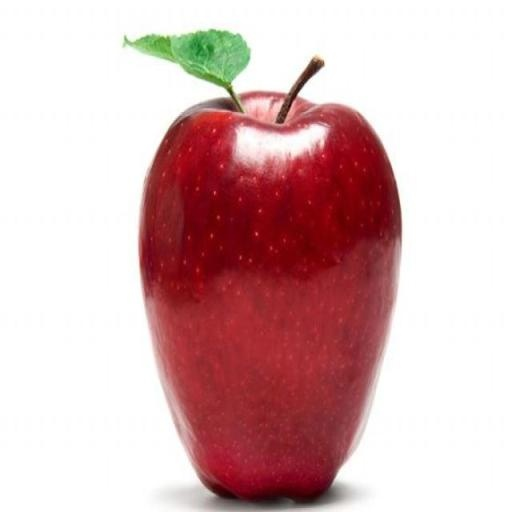fruit: (140, 92, 400, 499)
